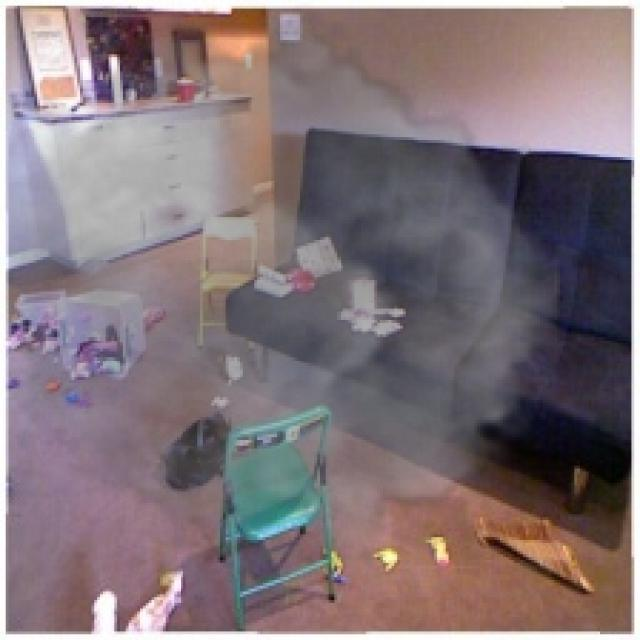Smoke: (8, 2, 560, 568)
